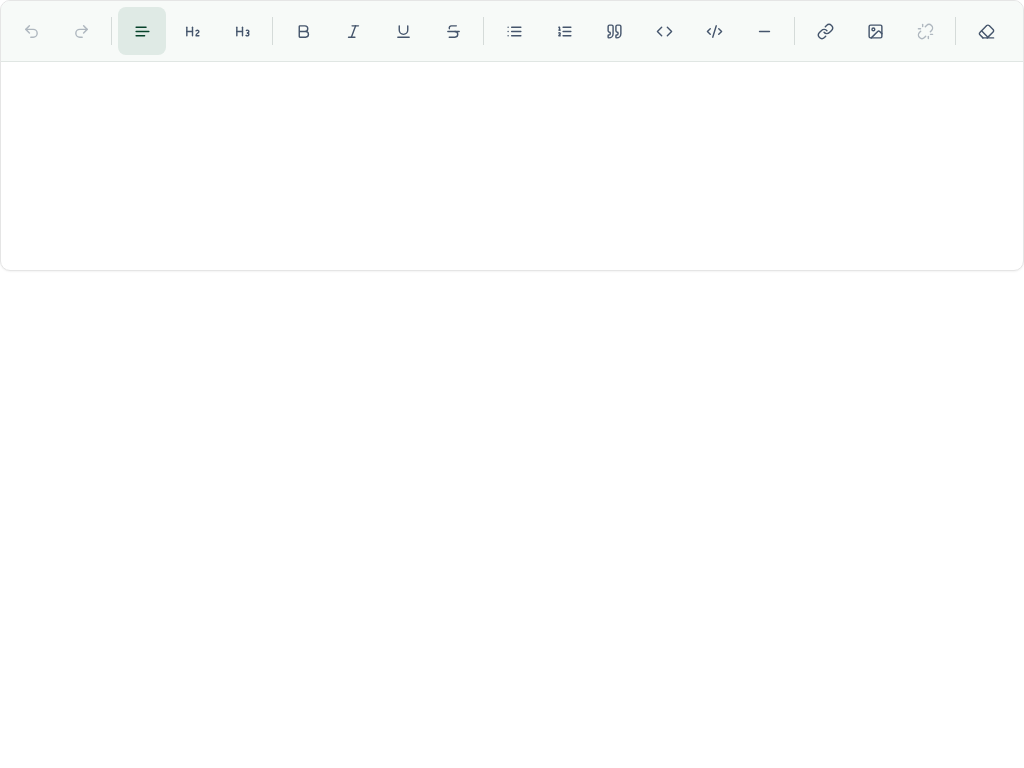
Scenario: rich text editor › rejects unsafe image destinations
expect the button named "Undo" is shown: met, box x1=7 y1=7 x2=55 y2=55
Click the button named "Insert image" at (875, 31), box x1=851 y1=7 x2=899 y2=55
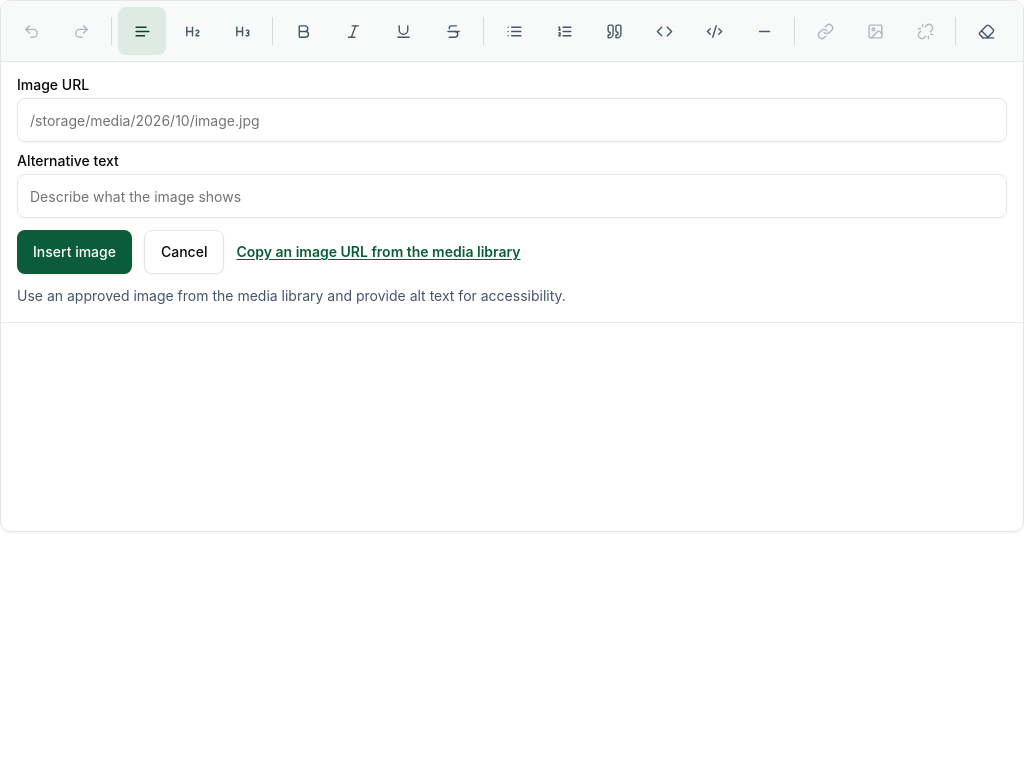
Type "javascript:alert(1)" into the field labelled "Image URL" at (512, 120), box x1=17 y1=98 x2=1007 y2=142
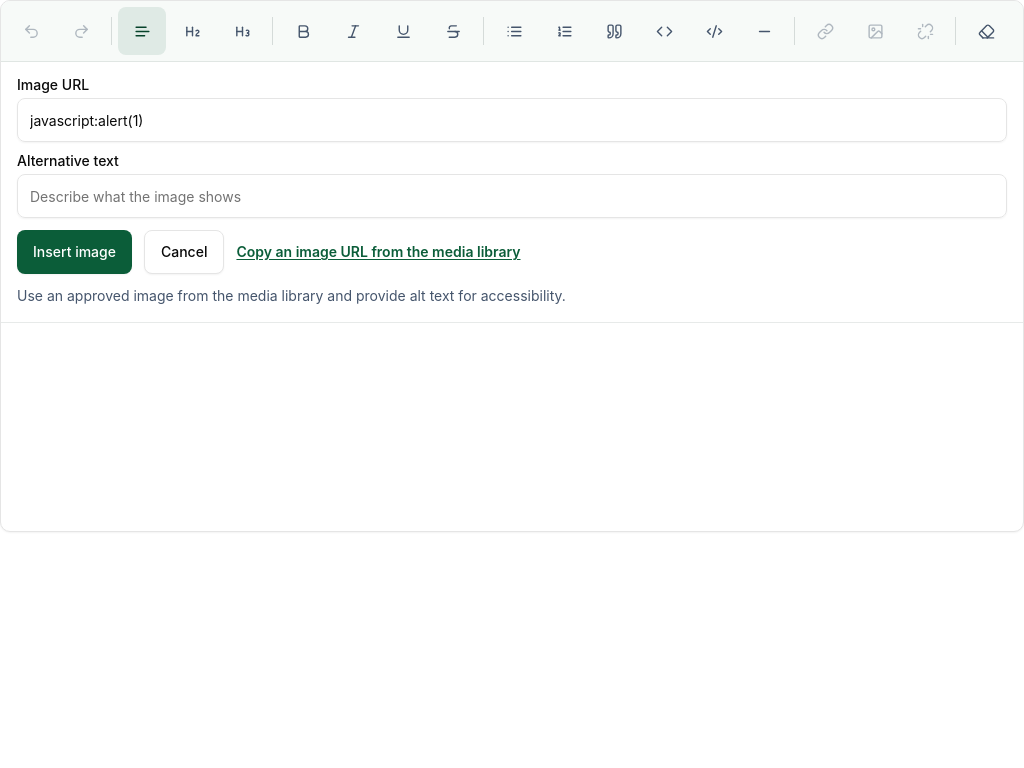
Type "Unsafe image" into the field labelled "Alternative text" at (512, 196), box x1=17 y1=174 x2=1007 y2=218
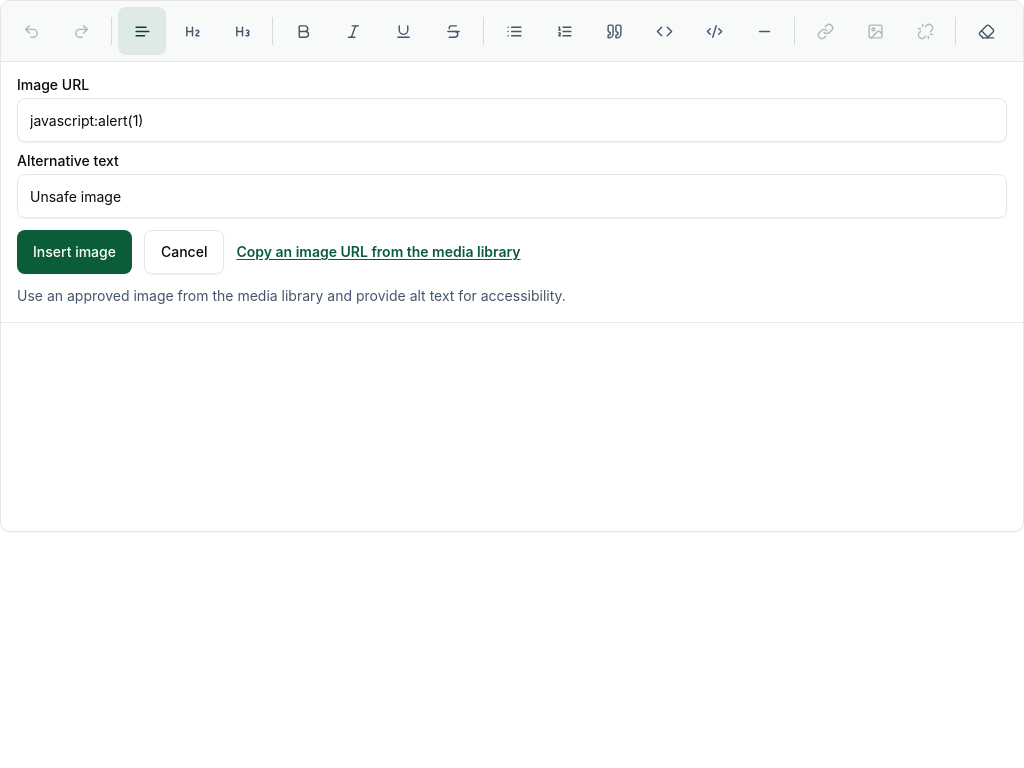
Click the button "Insert image" at (74, 252), box x1=17 y1=230 x2=132 y2=274
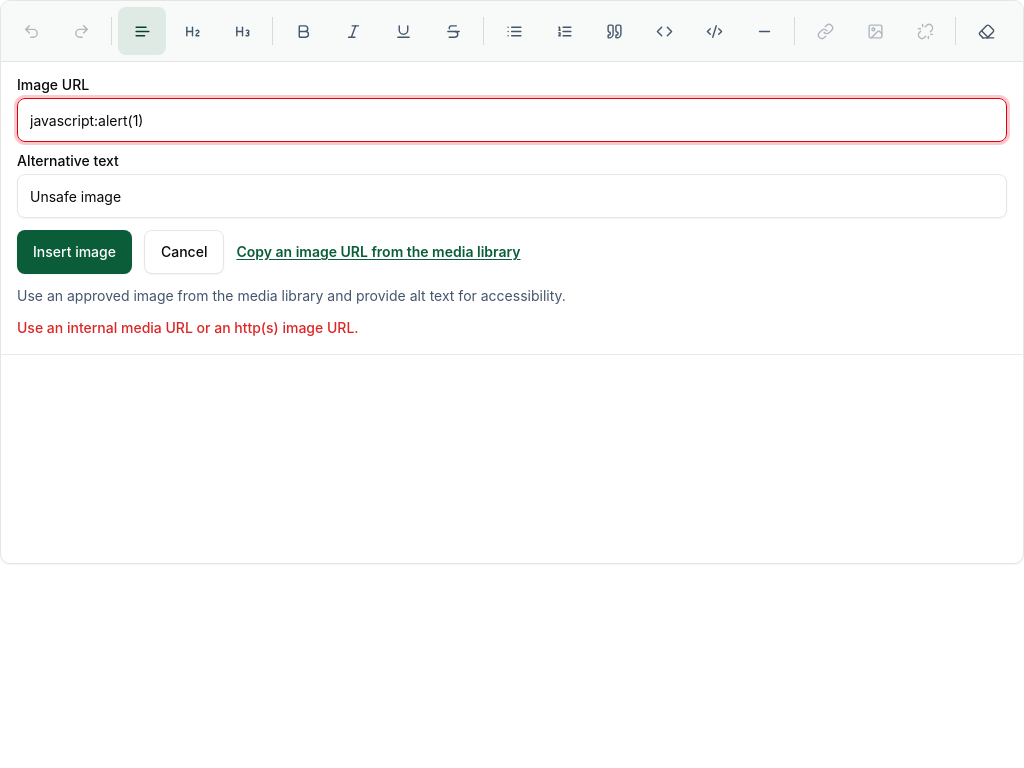
expect the message shows "Use an internal media URL": met, box x1=17 y1=319 x2=359 y2=336
